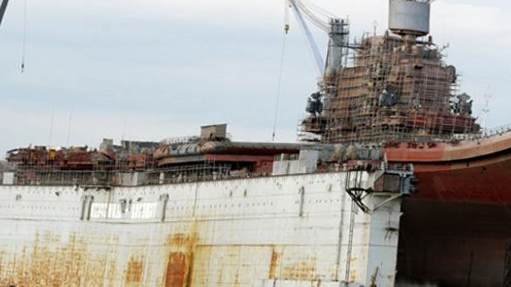rust: (1, 230, 114, 287), (160, 232, 201, 287), (264, 245, 317, 280), (120, 240, 152, 286)
